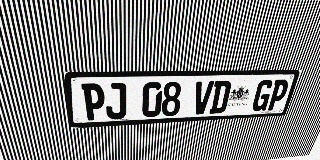0: (142, 82, 163, 117)
8: (161, 82, 183, 116)
D: (209, 81, 232, 114)
G: (250, 80, 275, 111)
J: (105, 83, 126, 119)
P: (81, 83, 106, 121), (266, 79, 291, 111)
V: (191, 81, 214, 115)
